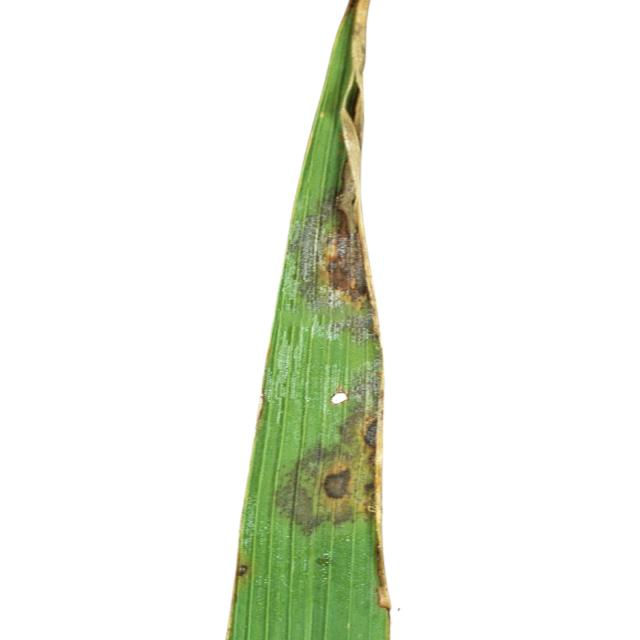Leaf scald: (173, 25, 529, 640)
